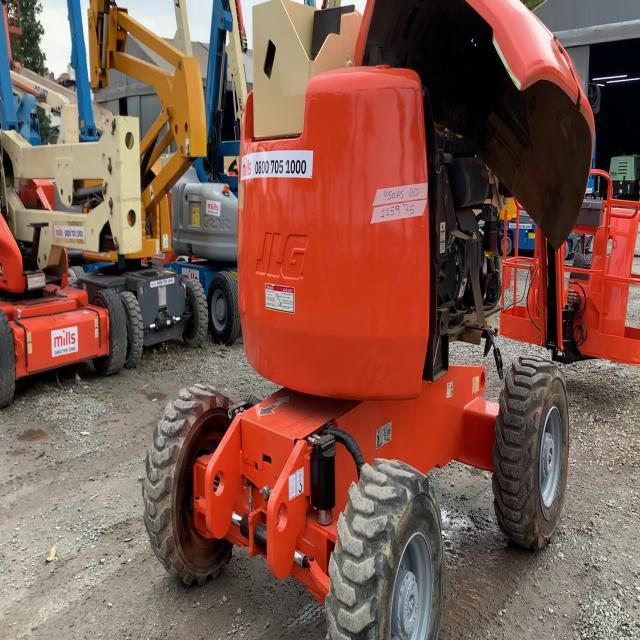Adesivo Longo: (240, 148, 315, 183), (54, 225, 85, 239)
Adesivos: (50, 324, 79, 359)
